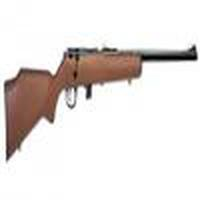gun: (4, 45, 198, 160)
